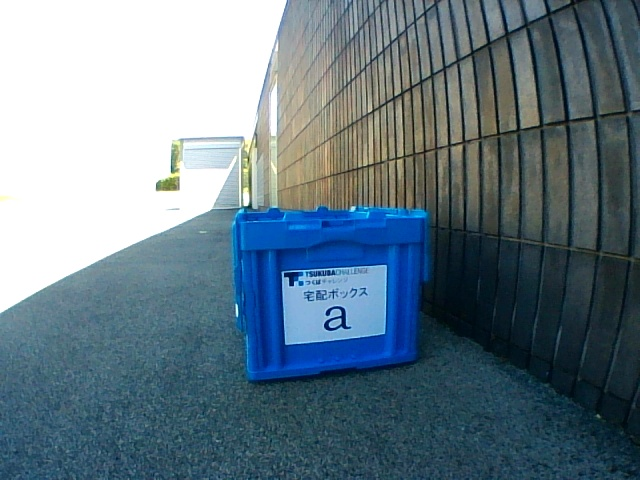blue_box: (232, 206, 429, 380)
tag_a: (291, 274, 382, 332)
